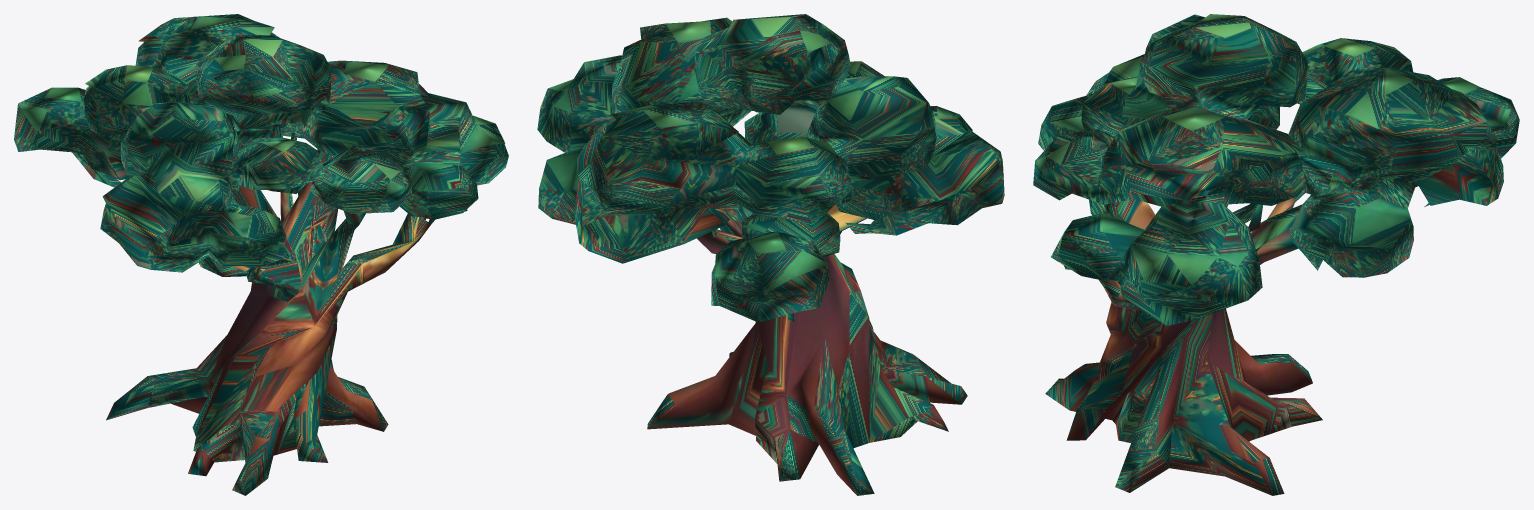
Rendered from fal-canopy-lite.glb.
3 renders of one model, left to right at view 1: azimuth 30°, elevation 25°; view 2: azimuth 150°, elevation 25°; view 3: azimuth 270°, elevation 25°, orthographic. The views are drawn at different scales.
Parts seen in each view (by area): view 1: node_0; view 2: node_0; view 3: node_0.
Part boxes in pixels (x1,y1,x2,y2): node_0: [14, 14, 508, 495]; node_0: [537, 14, 1004, 495]; node_0: [1033, 14, 1519, 495].
Size of the model in its own units: 1.09 by 0.9947 by 1.04.
Materials: 1 (1 with a texture image).
